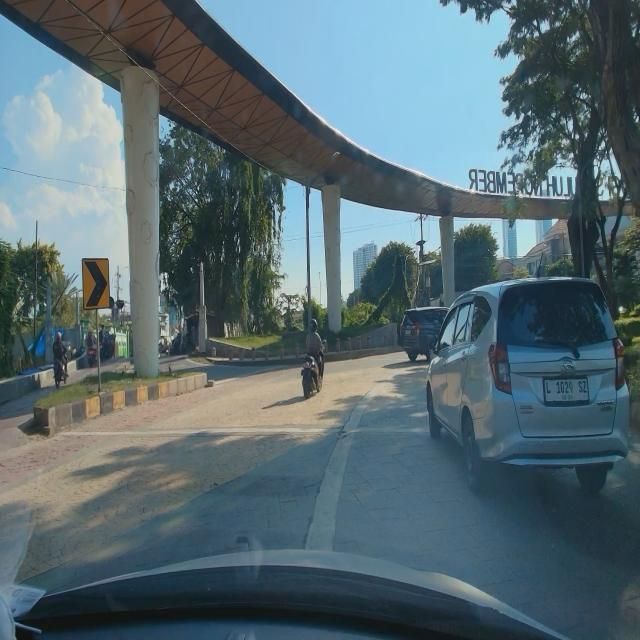car: (425, 275, 638, 498)
license-plate: (542, 372, 592, 410)
